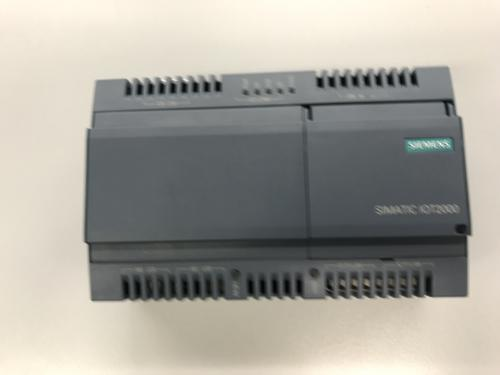device: (83, 66, 473, 303)
